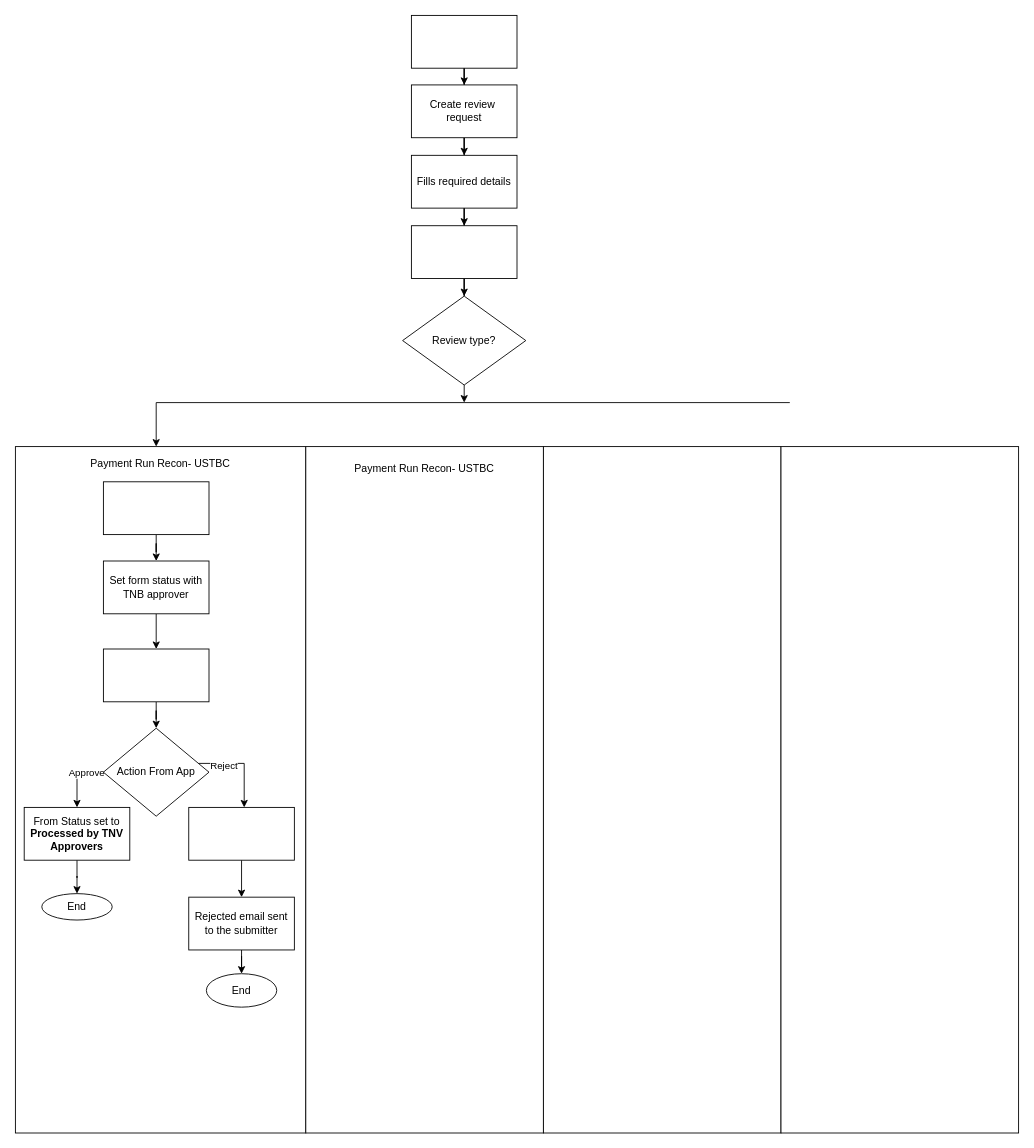
Some shapes in this 1034 by 1148 pixel diagram are drawn without their labels. Here are the shapes that lost their labels. From the top down, the centre of each, then its label:
[464,41]: Login to systen
[464,252]: Submit for Approval
[156,508]: Notify TNB approves
[156,675]: Redirecting from email to App
[241,833]: From Status set to Rejected by TNV Approvers
